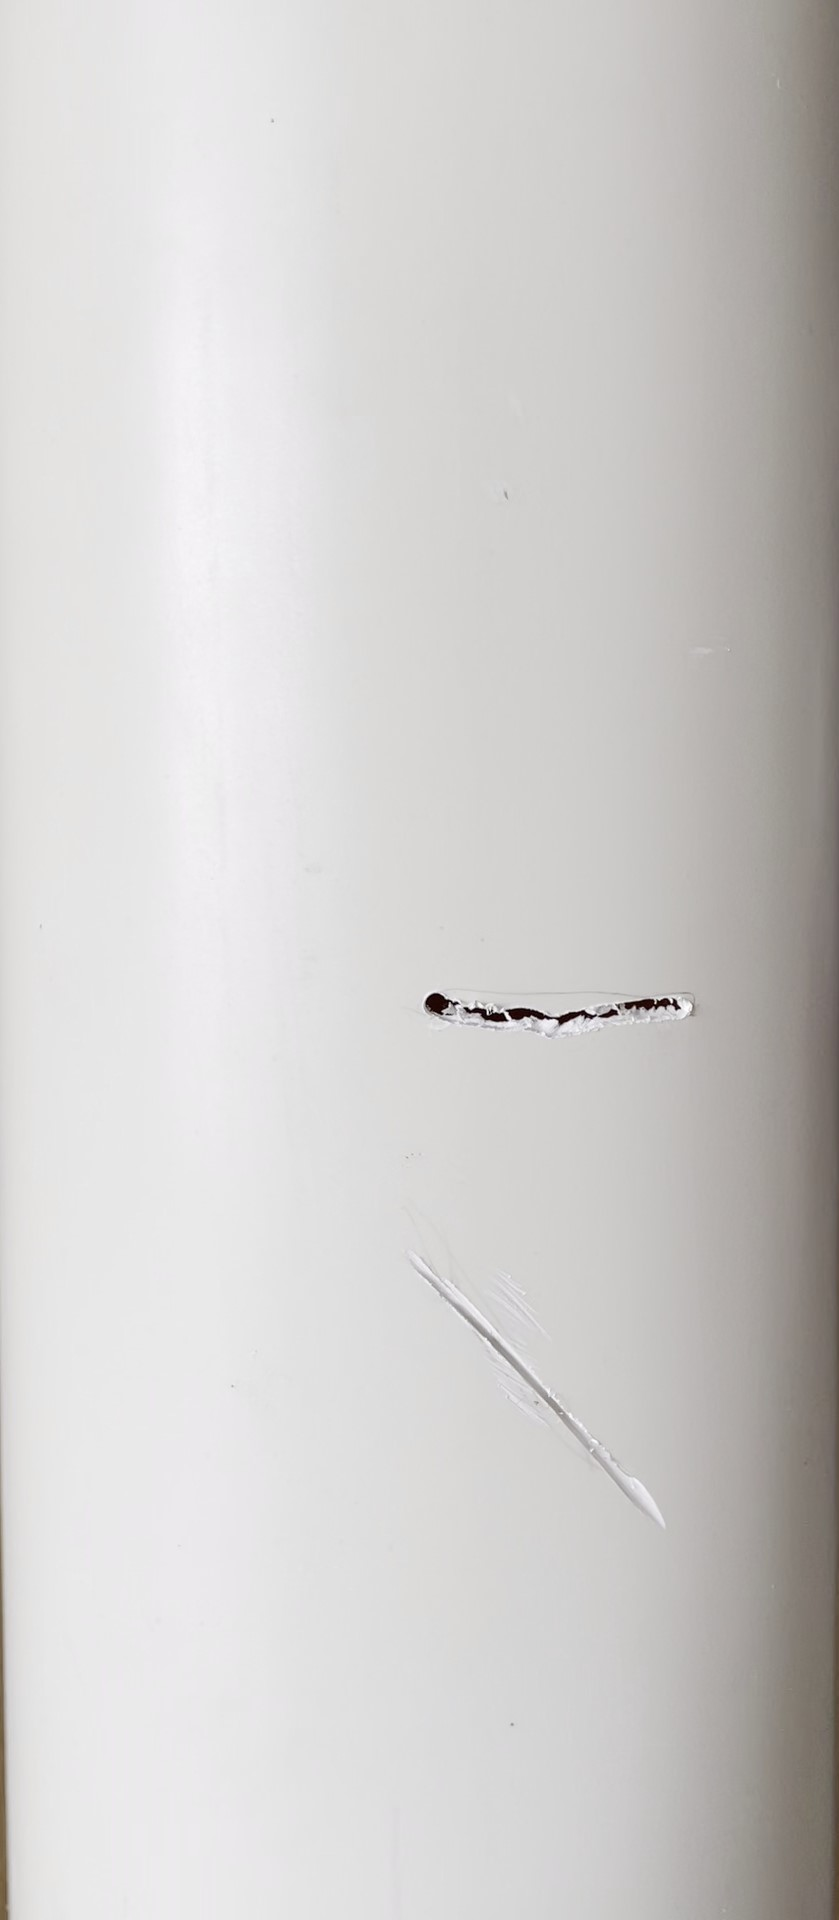fengxi: (416, 983, 703, 1040)
sunshang: (401, 1247, 671, 1542)
